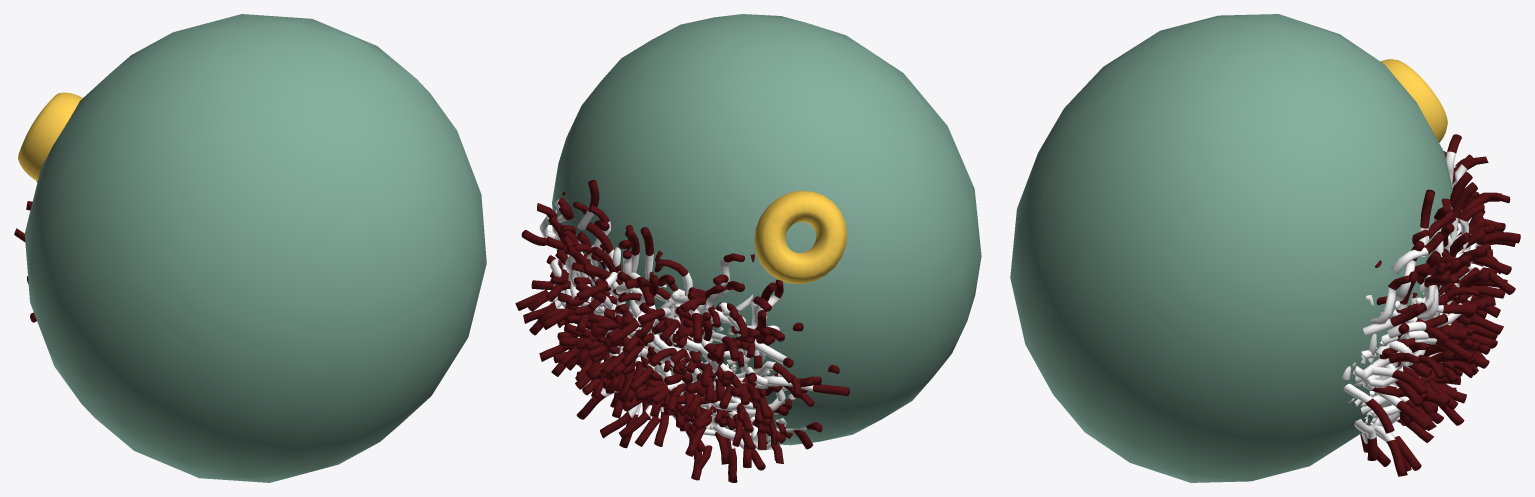
The model's file is sea_urchin.fbx.
The picture shows the model from 3 angles, left to right: view 1: azimuth 30°, elevation 25°; view 2: azimuth 150°, elevation 25°; view 3: azimuth 270°, elevation 25°; orthographic projection. The views are drawn at different scales.
Parts seen in each view (by area): view 1: sea_urchin, ring; view 2: sea_urchin, ring; view 3: sea_urchin, ring, sea_urchin|hair_1|Dupli|190, sea_urchin|hair_1|Dupli|171, sea_urchin|hair_5|Dupli|76, sea_urchin|hair_5|Dupli|165, sea_urchin|hair_1|Dupli|189, sea_urchin|hair_2|Dupli|285, sea_urchin|hair_2|Dupli|119.
Boxes of the visible parts, x1=… form: sea_urchin: x1=24, y1=14, x2=486, y2=482; ring: x1=18, y1=92, x2=82, y2=181; sea_urchin: x1=552, y1=14, x2=981, y2=445; ring: x1=754, y1=190, x2=847, y2=283; sea_urchin: x1=1010, y1=14, x2=1452, y2=482; ring: x1=1380, y1=59, x2=1447, y2=142; sea_urchin|hair_1|Dupli|190: x1=1343, y1=383, x2=1394, y2=433; sea_urchin|hair_1|Dupli|171: x1=1363, y1=302, x2=1426, y2=336; sea_urchin|hair_5|Dupli|76: x1=1391, y1=231, x2=1445, y2=274; sea_urchin|hair_5|Dupli|165: x1=1370, y1=275, x2=1410, y2=324; sea_urchin|hair_1|Dupli|189: x1=1371, y1=366, x2=1426, y2=395; sea_urchin|hair_2|Dupli|285: x1=1372, y1=425, x2=1407, y2=476; sea_urchin|hair_2|Dupli|119: x1=1374, y1=391, x2=1430, y2=429.
Size of what is drawn, in the model's own units: 0.0613 by 0.0607 by 0.0651.
